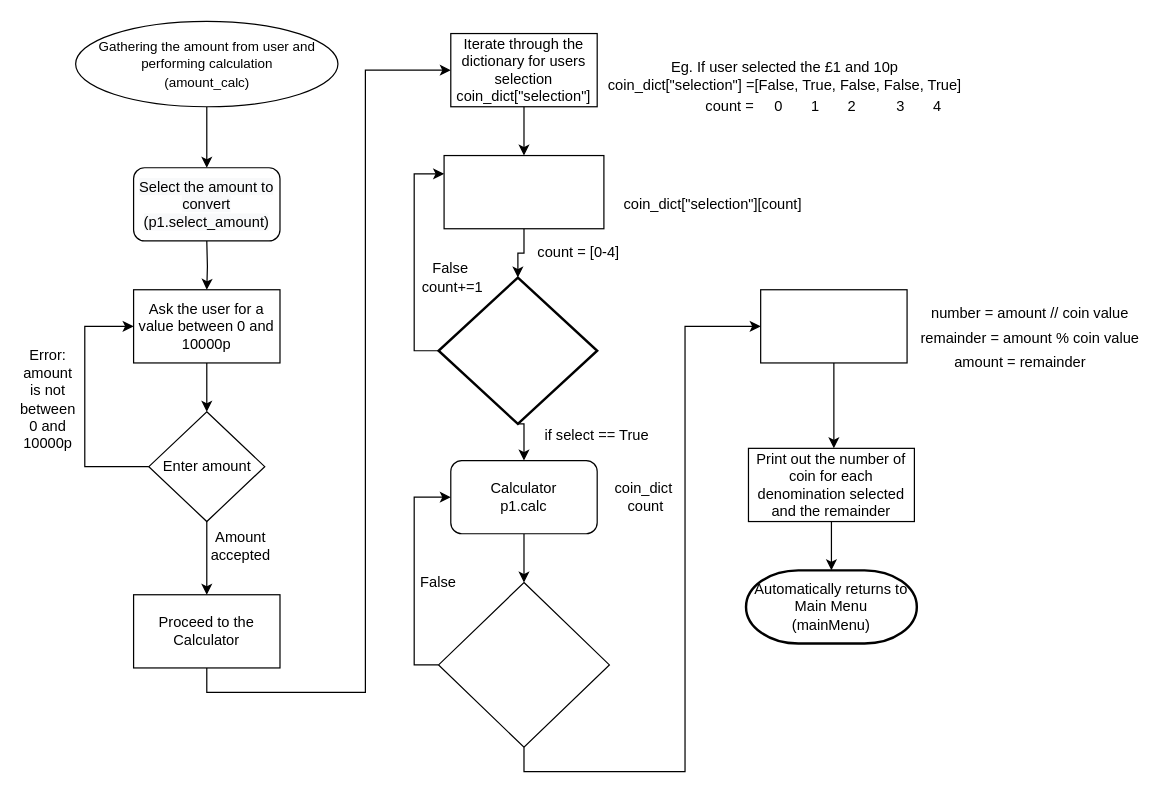
Image size: 1168x803. Some labels were removed from this diagram. The box of each missing label's shape, as (x1, y1, x2, y2) in pixels:
Did user this select coin? If True proceed to Calculator,: (437, 276, 598, 425)
if the coin was selected and the amount is more than the coin value, proceed: (437, 581, 609, 747)
Loops through the selection list to locate what the user chose: (443, 154, 604, 229)
work out the number of coins and the remainder: (759, 289, 907, 363)
